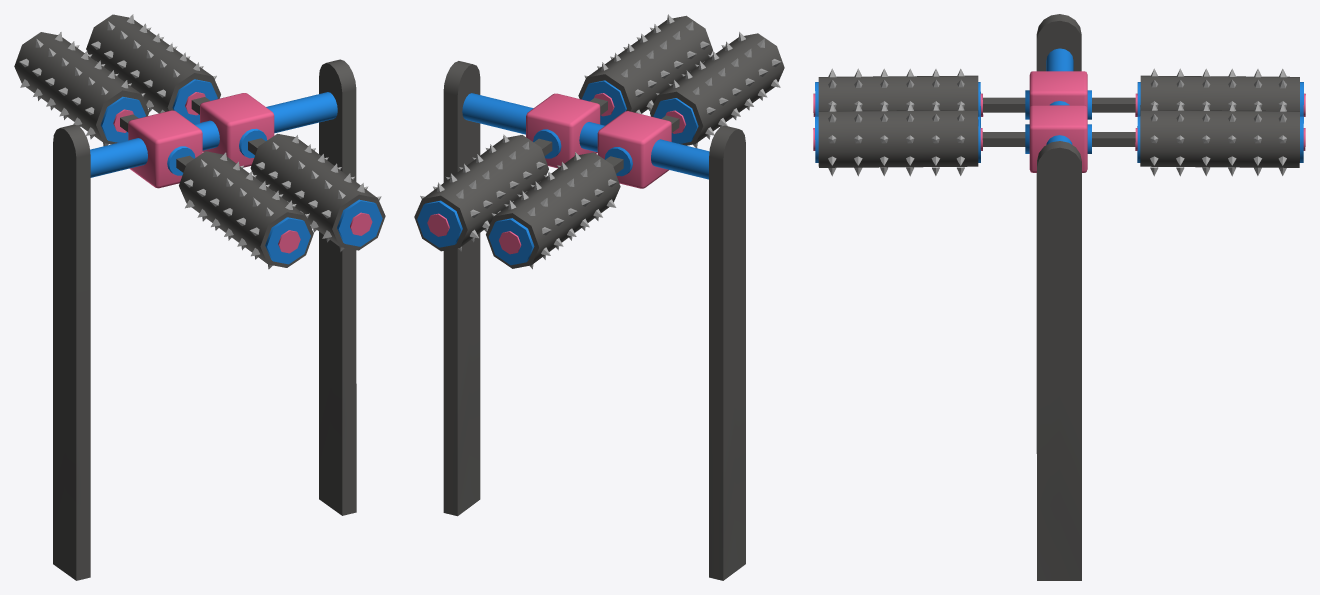
Rendered from trap_016.fbx.
The picture shows the model from 3 angles, left to right: view 1: azimuth 30°, elevation 25°; view 2: azimuth 150°, elevation 25°; view 3: azimuth 270°, elevation 25°; orthographic projection. The views are drawn at different scales.
Parts seen in each view (by area): view 1: trap_016 (×2); view 2: trap_016 (×2); view 3: trap_016 (×2).
Boxes of the visible parts, x1,y1,x2,y2 form: trap_016 (×2): [14, 14, 385, 580]; trap_016 (×2): [414, 14, 784, 580]; trap_016 (×2): [813, 14, 1305, 580].
Size of the model in its own units: 2114 by 3189 by 3287.
